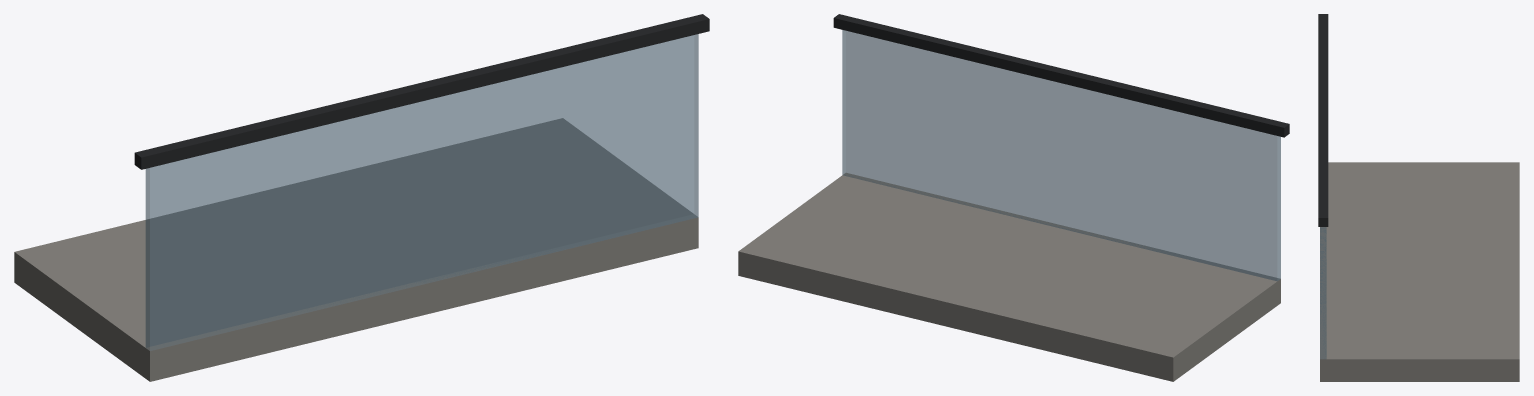
The model's file is KIT_Balcony_3m.glb.
3 renders of one model, left to right at view 1: azimuth 30°, elevation 25°; view 2: azimuth 150°, elevation 25°; view 3: azimuth 270°, elevation 25°, orthographic. The views are drawn at different scales.
Visible parts, largest first — view 1: KIT_Balcony_3m; view 2: KIT_Balcony_3m; view 3: KIT_Balcony_3m.
Boxes of the visible parts, x1,y1,x2,y2 form: KIT_Balcony_3m: [14, 14, 709, 381]; KIT_Balcony_3m: [738, 14, 1289, 381]; KIT_Balcony_3m: [1318, 14, 1519, 381].
Bounding box in the file's own units: 2.9 × 1.11 × 1.21.
